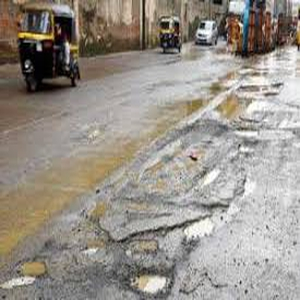pothole: (124, 268, 174, 298), (236, 80, 285, 102)
